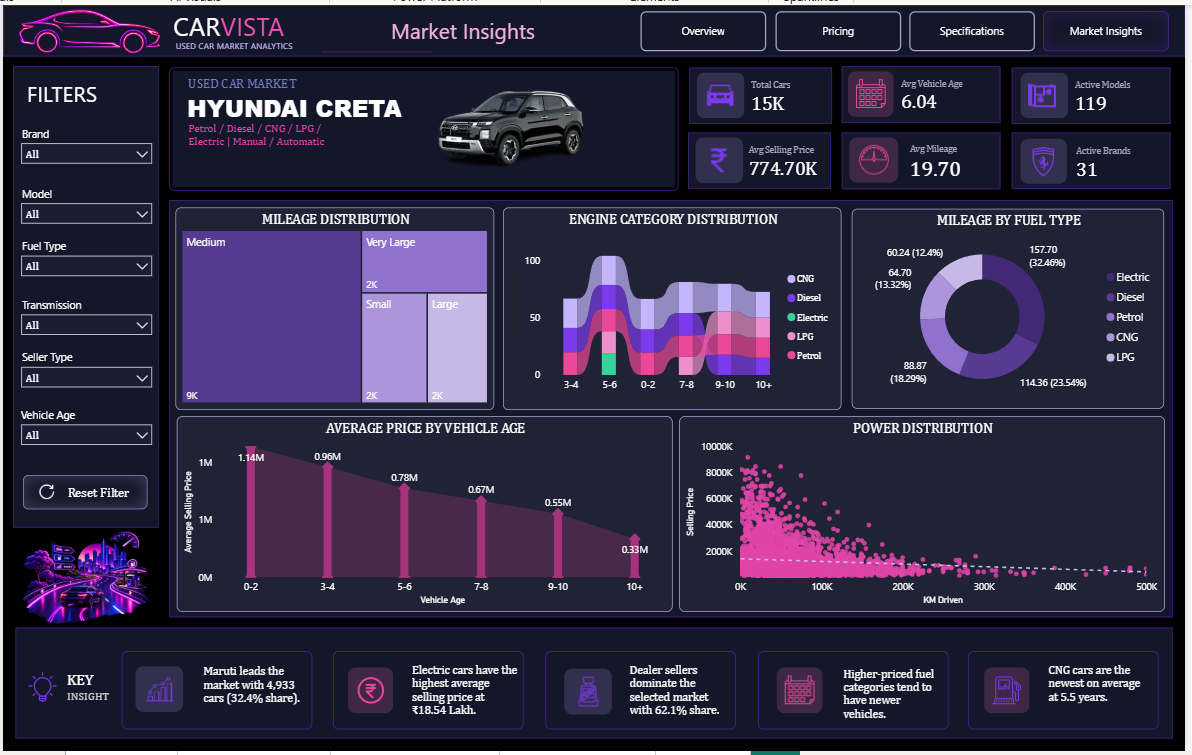

The page's visual inventory and layout, read from the dashboard file:
{"tool":"powerbi","page":{"name":"Market Insights","canvas":[1490,940],"ordinal":3},"visuals":[{"type":"shape","box":[0,0,1490,65],"z":0},{"type":"image","box":[29.7,834.1,40,50],"z":0,"group":"g9"},{"type":"group","id":"g1","title":"Group 1","box":[210,0,253.8,67.5],"z":1000},{"type":"textbox","box":[210,0,174.6,56.3],"z":1000,"group":"g1"},{"type":"textbox","box":[75.2,834.1,75.5,50.9],"z":1000,"group":"g9"},{"type":"textbox","box":[213,36,250.7,31],"z":2000,"group":"g1"},{"type":"shape","box":[12.9,77.1,184.3,581.4],"z":2000},{"type":"shape","box":[210,246,1265,526],"z":3000},{"type":"shape","box":[15.7,785,1458.8,140],"z":4000},{"type":"shape","box":[1215.7,815,240,98.6],"z":5000},{"type":"shape","box":[950.7,815,240,98.6],"z":6000},{"type":"shape","box":[683.2,815,240,98.6],"z":7000},{"type":"shape","box":[415.7,813.8,240,98.6],"z":8000},{"type":"shape","box":[149.4,815,240,98.6],"z":9000},{"type":"shape","box":[400,45,141.7,26.7],"z":10000},{"type":"textbox","box":[25,88.8,125,48.8],"z":11000},{"type":"group","id":"g2","title":"Group 2","box":[12.5,148,185,63.4],"z":12000},{"type":"group","id":"g3","title":"Group 2","box":[12.5,223,185,63],"z":13000},{"type":"group","id":"g4","title":"Group 2","box":[12.5,289.5,185,63],"z":14000},{"type":"group","id":"g5","title":"Group 2","box":[12.5,364.3,185,63],"z":15000},{"type":"group","id":"g6","title":"Group 2","box":[12.5,430.8,185,63],"z":16000},{"type":"group","id":"g7","title":"Group 2","box":[12.5,503,185,63.5],"z":17000},{"type":"treemap","title":"MILEAGE DISTRIBUTION","fields":{"Group":["cardekho_dataset.Engine Category"],"Values":["cardekho_dataset.Total Cars"]},"box":[216.7,255,401.7,255],"z":18000},{"type":"group","id":"g8","title":"Group 3","box":[25.7,592.9,157,43.3],"z":19000},{"type":"image","box":[707.9,835.8,60,57.8],"z":20000},{"type":"image","box":[1236.7,835,57,57.8],"z":21000},{"type":"image","box":[166.7,833.3,60,57.8],"z":22000},{"type":"slicer","fields":{"Values":["cardekho_dataset.brand"]},"box":[12.5,163.9,185,47.5],"z":23000,"group":"g2"},{"type":"slicer","fields":{"Values":["cardekho_dataset.model"]},"box":[12.5,238.9,185,47.5],"z":23000,"group":"g3"},{"type":"slicer","fields":{"Values":["cardekho_dataset.fuel_type"]},"box":[12.5,305.4,185,47.5],"z":23000,"group":"g4"},{"type":"slicer","fields":{"Values":["cardekho_dataset.transmission_type"]},"box":[12.5,380.2,185,47.5],"z":23000,"group":"g5"},{"type":"slicer","fields":{"Values":["cardekho_dataset.seller_type"]},"box":[12.5,446.8,185,47],"z":23000,"group":"g6"},{"type":"slicer","fields":{"Values":["cardekho_dataset.vehicle_age"]},"box":[12.5,519,185,47.5],"z":23000,"group":"g7"},{"type":"cardVisual","fields":{"Data":["cardekho_dataset.Market Insight Top Fuel Price"]},"box":[510,821.7,145,111.7],"z":23000},{"type":"textbox","box":[19.3,148,85.7,30.7],"z":24000,"group":"g2"},{"type":"textbox","box":[19.3,223,85.7,30.7],"z":24000,"group":"g3"},{"type":"textbox","box":[19.3,289.5,85.7,30.7],"z":24000,"group":"g4"},{"type":"textbox","box":[19.3,364.3,85.7,30.7],"z":24000,"group":"g5"},{"type":"textbox","box":[19.3,430.8,85.7,30.7],"z":24000,"group":"g6"},{"type":"textbox","box":[17.3,503,85.7,30.7],"z":24000,"group":"g7"},{"type":"cardVisual","fields":{"Data":["cardekho_dataset.Market Insight Newest Fuel"]},"box":[1311.7,821.7,135.7,114],"z":24000},{"type":"shape","box":[25.7,592.9,157,42.9],"z":25000,"group":"g8"},{"type":"cardVisual","fields":{"Data":["cardekho_dataset.Market Insight Price Age Pattern"]},"box":[1053.3,826.7,135,106.7],"z":25000},{"type":"group","id":"g9","title":"Group 4","box":[29.7,834.1,120.9,50.9],"z":26000},{"type":"ribbonChart","title":"ENGINE CATEGORY DISTRIBUTION","fields":{"Y":["cardekho_dataset.Average Mileage"],"Category":["cardekho_dataset.Vehicle Age Group"],"Series":["cardekho_dataset.fuel_type"]},"box":[630,255,426.7,255],"z":27000},{"type":"lineChart","title":"AVERAGE PRICE BY VEHICLE AGE","fields":{"Category":["cardekho_dataset.Vehicle Age Group"],"Y":["cardekho_dataset.Average Selling Price"]},"box":[218.3,518.3,625,246.7],"z":28000},{"type":"scatterChart","title":"POWER DISTRIBUTION","fields":{"X":["cardekho_dataset.km_driven"],"Y":["cardekho_dataset.selling_price"]},"box":[851.7,518.3,611.7,246.7],"z":29000},{"type":"donutChart","title":"MILEAGE BY FUEL TYPE","fields":{"Category":["cardekho_dataset.fuel_type"],"Y":["cardekho_dataset.Average Max Power"]},"box":[1070,256.7,393.3,251.7],"z":30000},{"type":"shape","box":[1056.7,160,200,71.7],"z":31000},{"type":"shape","box":[863.3,160,180,70.8],"z":32000},{"type":"shape","box":[210,78.3,641.7,155],"z":33000},{"type":"shape","box":[864.1,78.2,180,71.2],"z":34000},{"type":"shape","box":[1056.7,76.7,200,71.7],"z":35000},{"type":"textbox","box":[228.8,85,173.8,38.8],"z":36000},{"type":"image","box":[874.5,84.6,60,57.5],"z":37000},{"type":"image","box":[1066.7,166.7,61.7,56.7],"z":38000},{"type":"image","box":[872.5,167.1,60,57.5],"z":39000},{"type":"image","box":[1065,83.3,57.5,57.5],"z":40000},{"type":"cardVisual","fields":{"Data":["cardekho_dataset.Average Selling Price"]},"box":[911,149,153.3,95],"z":41000},{"type":"image","box":[435,85,408.3,148.3],"z":42000},{"type":"cardVisual","fields":{"Data":["Car_Images.Hero Car Name"]},"box":[203.8,93.8,415,67.5],"z":43000},{"type":"cardVisual","fields":{"Data":["Car_Images.Hero Subtitle"]},"box":[228.8,140,221.2,63.8],"z":44000},{"type":"shape","box":[1271.7,160,200,71.2],"z":45000},{"type":"shape","box":[1271.7,78.3,200,71.2],"z":46000},{"type":"image","box":[1281.9,85.3,60,57.5],"z":47000},{"type":"image","box":[1282,168,58,57],"z":48000},{"type":"cardVisual","fields":{"Data":["cardekho_dataset.Average Mileage"]},"box":[1113,149,151,95],"z":49000},{"type":"cardVisual","fields":{"Data":["cardekho_dataset.Active Brands"]},"box":[1323,151,153.3,95],"z":50000},{"type":"cardVisual","fields":{"Data":["cardekho_dataset.Active Models"]},"box":[1322,68,153.3,95],"z":51000},{"type":"cardVisual","fields":{"Data":["cardekho_dataset.Average Vehicle Age"]},"box":[1102,66,153.3,95],"z":52000},{"type":"cardVisual","fields":{"Data":["cardekho_dataset.Total Cars"]},"box":[914,67,153.3,95],"z":53000},{"type":"image","box":[33.8,593.1,43.8,43.1],"z":53010,"group":"g8"},{"type":"image","box":[435,835,57,57.8],"z":54000},{"type":"cardVisual","fields":{"Data":["cardekho_dataset.Market Insight Top Brand"]},"box":[246.7,823.3,138,87.8],"z":55000},{"type":"cardVisual","fields":{"Data":["cardekho_dataset.Market Insight Seller Type"]},"box":[785,821.7,133.3,100],"z":56000},{"type":"image","box":[975,835,57.5,57.5],"z":57000},{"type":"image","box":[0,0,218.3,65],"z":58000},{"type":"actionButton","box":[803.2,7.4,158.3,50],"z":59000},{"type":"actionButton","box":[973.3,7.5,158.8,50],"z":60000},{"type":"actionButton","box":[1141.7,7.5,158.3,50],"z":61000},{"type":"actionButton","box":[1310.8,7.5,158.8,50],"z":62000},{"type":"textbox","box":[450,10,258.6,50],"z":63000},{"type":"image","box":[12.6,658.4,184.3,126],"z":63001}]}

Visuals, with their boxes in screenshot pixels (x1, y1, x2, y2), scaled from the page's 1490x940 canvas onto the 1192x755 screenshot:
shape: 0:0:1191:52
image: 24:670:56:710
"Group 1" group: 168:0:371:54
textbox: 168:0:308:45
textbox: 60:670:121:711
textbox: 170:29:371:54
shape: 10:62:158:529
shape: 168:198:1180:620
shape: 13:631:1180:743
shape: 973:655:1165:734
shape: 761:655:953:734
shape: 547:655:739:734
shape: 333:654:525:733
shape: 120:655:312:734
shape: 320:36:433:58
textbox: 20:71:120:111
"Group 2" group: 10:119:158:170
"Group 2" group: 10:179:158:230
"Group 2" group: 10:233:158:283
"Group 2" group: 10:293:158:343
"Group 2" group: 10:346:158:397
"Group 2" group: 10:404:158:455
"MILEAGE DISTRIBUTION" treemap: 173:205:495:410
"Group 3" group: 21:476:146:511
image: 566:671:614:718
image: 989:671:1035:717
image: 133:669:181:716
slicer - cardekho_dataset.brand: 10:132:158:170
slicer - cardekho_dataset.model: 10:192:158:230
slicer - cardekho_dataset.fuel_type: 10:245:158:283
slicer - cardekho_dataset.transmission_type: 10:305:158:344
slicer - cardekho_dataset.seller_type: 10:359:158:397
slicer - cardekho_dataset.vehicle_age: 10:417:158:455
cardVisual - cardekho_dataset.Market Insight Top Fuel Price: 408:660:524:750
textbox: 15:119:84:144
textbox: 15:179:84:204
textbox: 15:233:84:257
textbox: 15:293:84:317
textbox: 15:346:84:371
textbox: 14:404:82:429
cardVisual - cardekho_dataset.Market Insight Newest Fuel: 1049:660:1158:752
shape: 21:476:146:511
cardVisual - cardekho_dataset.Market Insight Price Age Pattern: 843:664:951:750
"Group 4" group: 24:670:120:711
"ENGINE CATEGORY DISTRIBUTION" ribbonChart: 504:205:845:410
"AVERAGE PRICE BY VEHICLE AGE" lineChart: 175:416:675:614
"POWER DISTRIBUTION" scatterChart: 681:416:1171:614
"MILEAGE BY FUEL TYPE" donutChart: 856:206:1171:408
shape: 845:129:1005:186
shape: 691:129:835:185
shape: 168:63:681:187
shape: 691:63:835:120
shape: 845:62:1005:119
textbox: 183:68:322:99
image: 700:68:748:114
image: 853:134:903:179
image: 698:134:746:180
image: 852:67:898:113
cardVisual - cardekho_dataset.Average Selling Price: 729:120:851:196
image: 348:68:675:187
cardVisual - Car_Images.Hero Car Name: 163:75:495:130
cardVisual - Car_Images.Hero Subtitle: 183:112:360:164
shape: 1017:129:1177:186
shape: 1017:63:1177:120
image: 1026:69:1074:115
image: 1026:135:1072:181
cardVisual - cardekho_dataset.Average Mileage: 890:120:1011:196
cardVisual - cardekho_dataset.Active Brands: 1058:121:1181:198
cardVisual - cardekho_dataset.Active Models: 1058:55:1180:131
cardVisual - cardekho_dataset.Average Vehicle Age: 882:53:1004:129
cardVisual - cardekho_dataset.Total Cars: 731:54:854:130
image: 27:476:62:511
image: 348:671:394:717
cardVisual - cardekho_dataset.Market Insight Top Brand: 197:661:308:732
cardVisual - cardekho_dataset.Market Insight Seller Type: 628:660:735:740
image: 780:671:826:717
image: 0:0:175:52
actionButton: 643:6:769:46
actionButton: 779:6:906:46
actionButton: 913:6:1040:46
actionButton: 1049:6:1176:46
textbox: 360:8:567:48
image: 10:529:158:630
